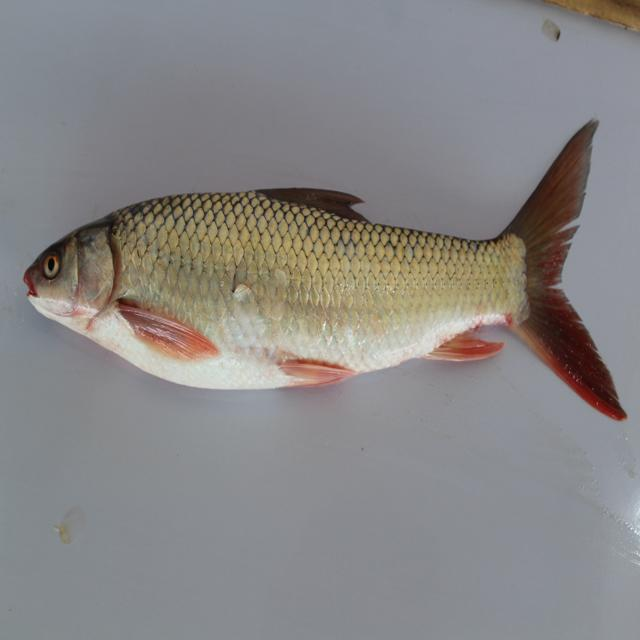Mori: (18, 132, 629, 467)
